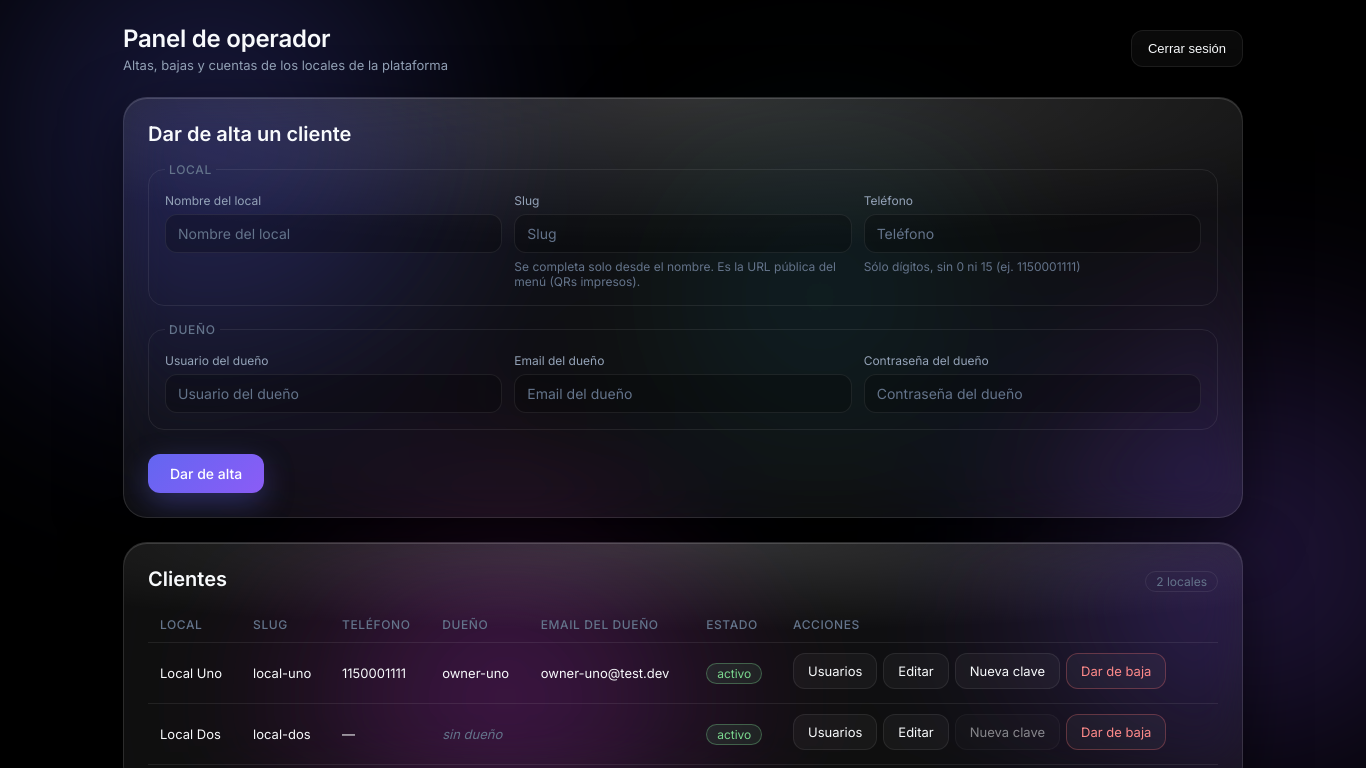
Test: platform operator view › closes the users modal with the header close button
Expected: the text "Local Uno" is shown, x1=148 y1=642 x2=241 y2=704
Step 1. Click the button "Usuarios" in the row of "Local Uno" → (835, 671), box x1=793 y1=653 x2=877 y2=689
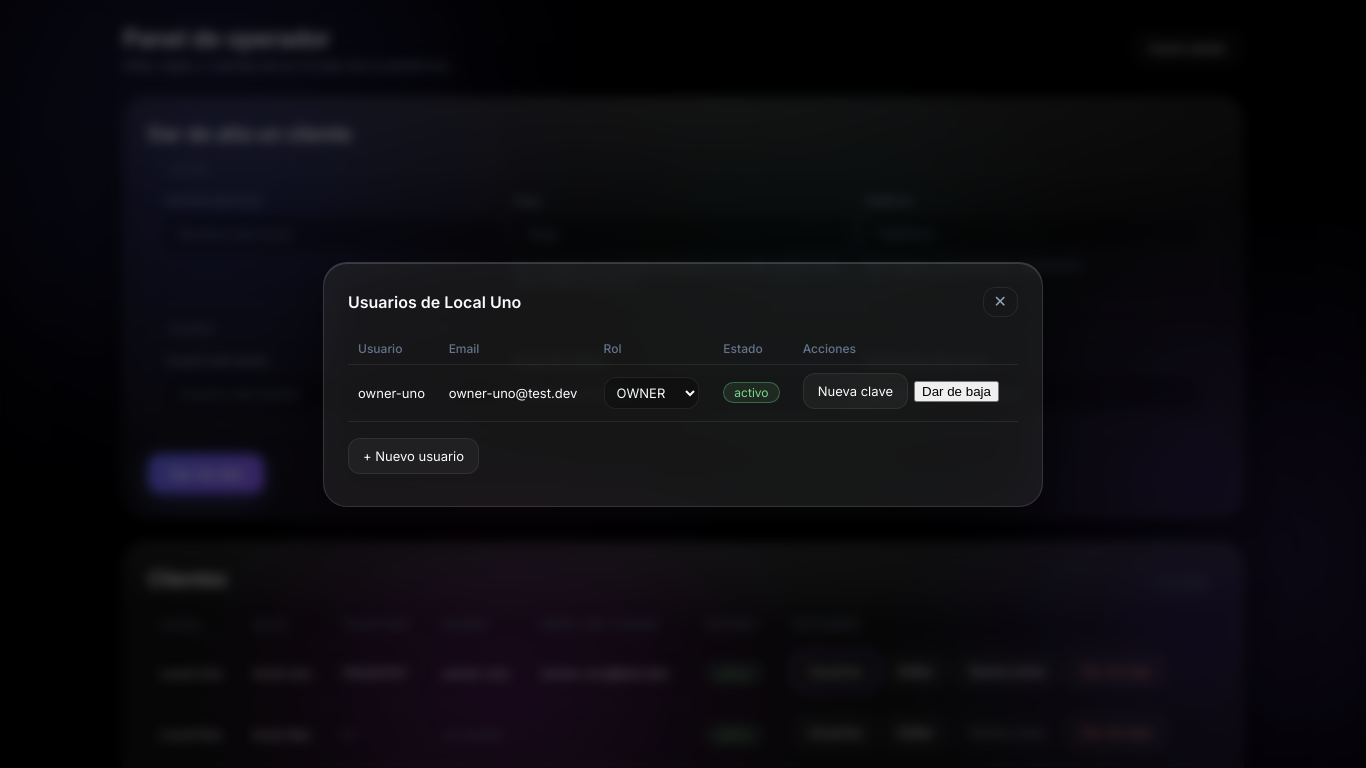
Step 2. Click the button named "Cerrar" → (1000, 302), box x1=983 y1=286 x2=1018 y2=316
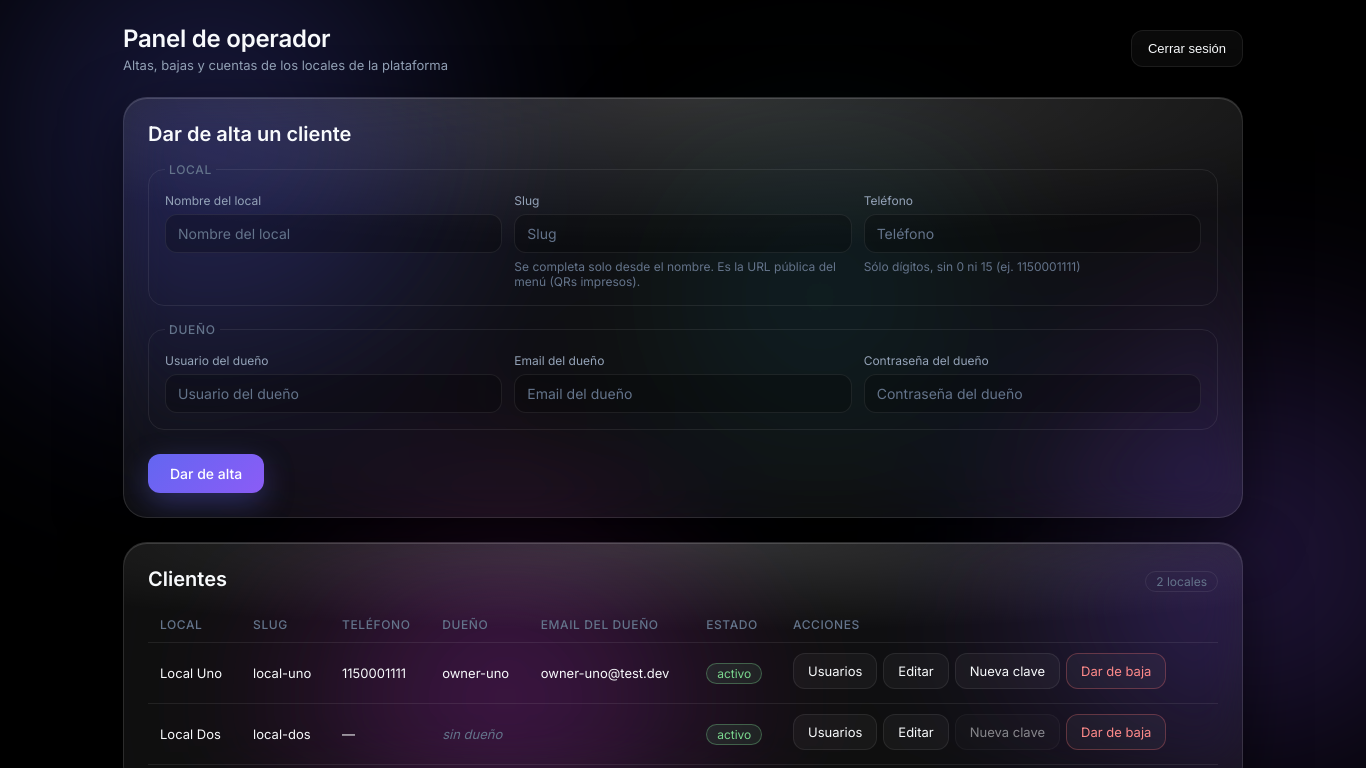
Now the dialog is gone
